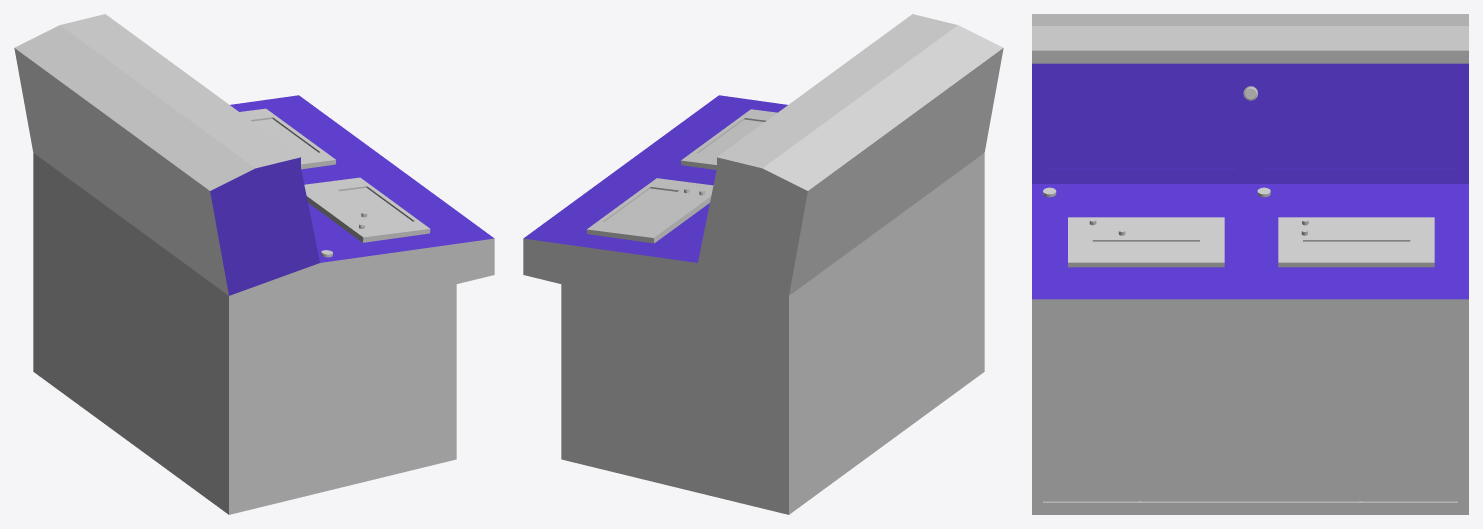
File: Control_Panel_Middle.fbx
3 renders of one model, left to right at view 1: azimuth 30°, elevation 25°; view 2: azimuth 150°, elevation 25°; view 3: azimuth 270°, elevation 25°, orthographic. The views are drawn at different scales.
Parts seen in each view (by area): view 1: Control Panel Middle; view 2: Control Panel Middle; view 3: Control Panel Middle.
Part boxes in pixels (<box>): Control Panel Middle: <box>14,14,494,514</box>; Control Panel Middle: <box>523,14,1003,514</box>; Control Panel Middle: <box>1032,14,1468,514</box>.
Bounding box in the file's own units: 120 × 143 × 137.
